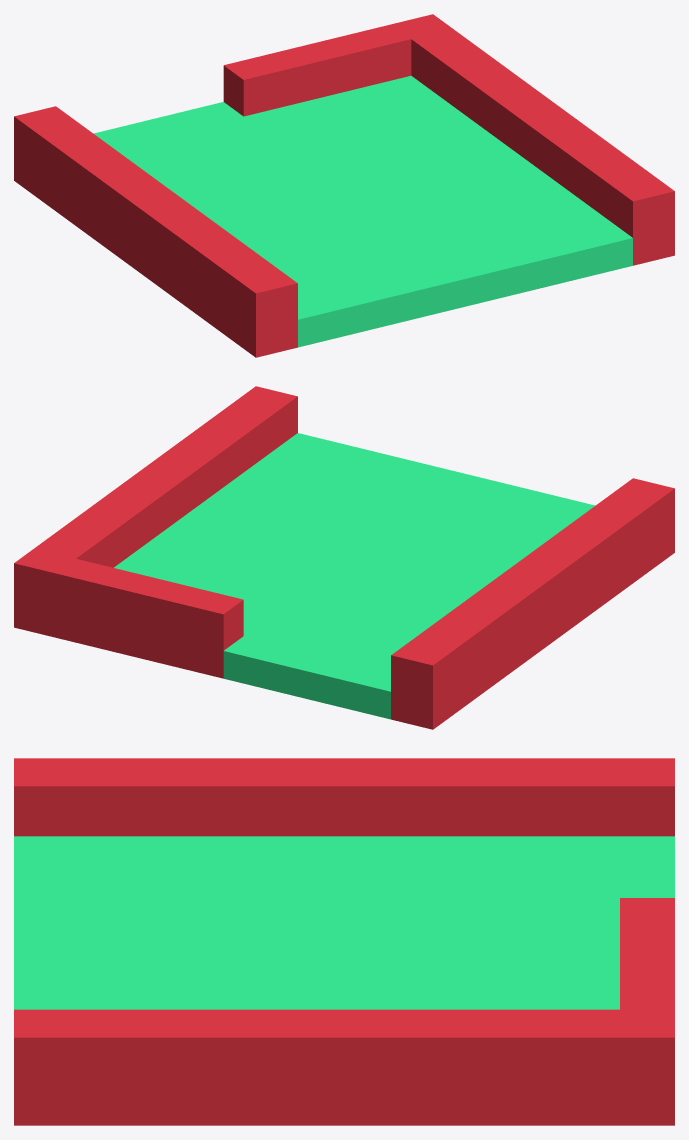
File: wallLeft.fbx
3 renders of one model, top to bottom at view 1: azimuth 30°, elevation 25°; view 2: azimuth 150°, elevation 25°; view 3: azimuth 270°, elevation 25°, orthographic. The views are drawn at different scales.
Visible parts, largest first — view 1: wallLeft; view 2: wallLeft; view 3: wallLeft.
Boxes of the visible parts, bbox=[...] form: wallLeft: bbox=[14, 14, 674, 357]; wallLeft: bbox=[14, 386, 674, 729]; wallLeft: bbox=[14, 758, 674, 1125].
Bounding box in the file's own units: 10 × 1.47 × 10.
